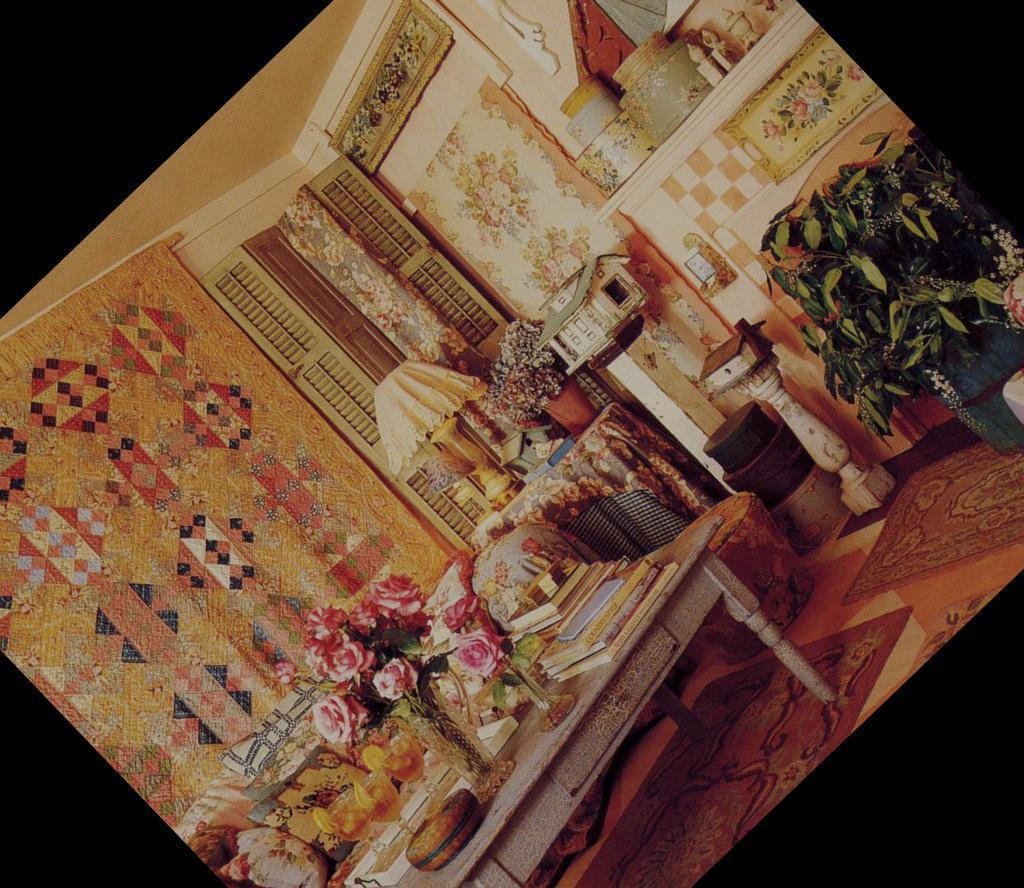Matera: (759, 156, 1024, 485)
